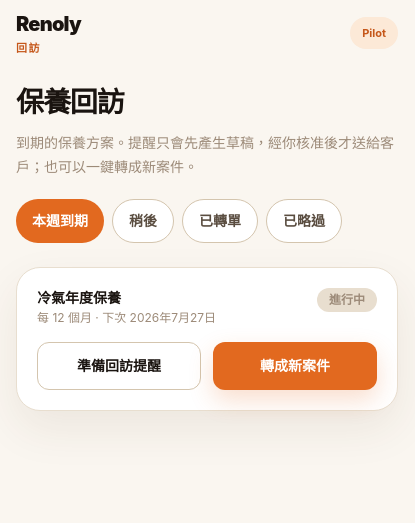
it: FollowUpsView › converts a plan into a new revisit case with one click
The image size is (415, 523).
expect the text "冷氣年度保養" is shown: met, box [37,288,121,306]
Click the button "轉成新案件".
click(295, 366)  # box [213,342,377,390]
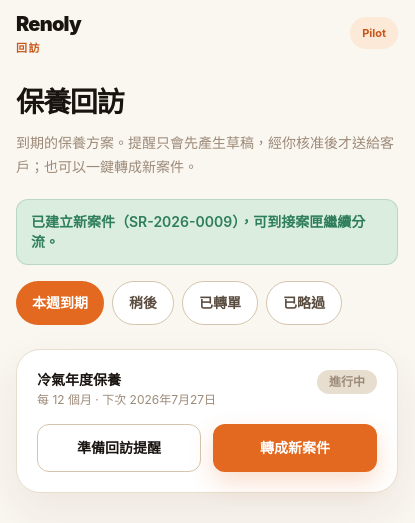
expect the text "已建立新案件（SR-2026-0009），可到接案匣繼續分流。" is shown: met, box [16,198,398,264]
